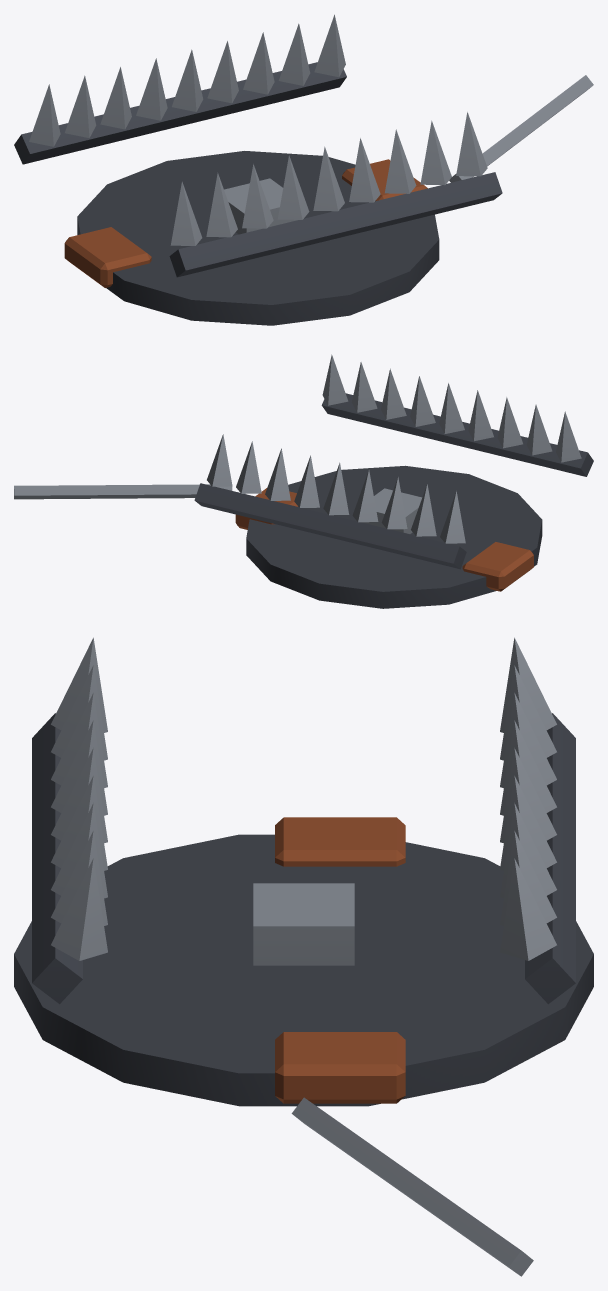
The model's file is beartrap.glb.
3 views of the same model, one above another, from view 1: azimuth 30°, elevation 25°; view 2: azimuth 150°, elevation 25°; view 3: azimuth 270°, elevation 25° (orthographic). The views are drawn at different scales.
Visible parts, largest first — view 1: beartrap, beartrap_craft; view 2: beartrap, beartrap_craft; view 3: beartrap, beartrap_craft.
Boxes of the visible parts, x1=… form: beartrap: x1=14, y1=14, x2=593, y2=325; beartrap_craft: x1=64, y1=159, x2=427, y2=287; beartrap: x1=14, y1=354, x2=593, y2=608; beartrap_craft: x1=235, y1=488, x2=533, y2=591; beartrap: x1=14, y1=637, x2=593, y2=1276; beartrap_craft: x1=275, y1=817, x2=405, y2=1103.
Bounding box in the file's own units: 1.43 × 0.3643 × 0.8.
